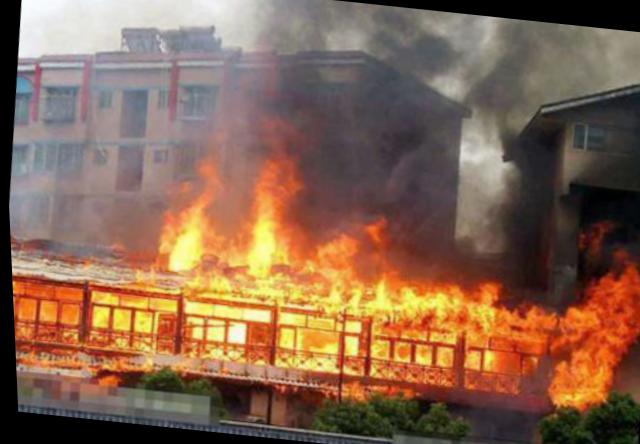fire: (187, 263, 367, 313), (542, 308, 619, 408), (239, 163, 301, 273), (584, 263, 639, 341), (159, 194, 212, 274), (463, 303, 548, 350), (363, 282, 432, 324), (308, 232, 361, 283), (182, 300, 269, 320), (429, 284, 468, 328), (10, 278, 83, 299), (198, 234, 244, 266), (274, 352, 333, 372), (294, 326, 339, 352), (462, 372, 513, 391), (284, 251, 319, 276), (470, 280, 502, 306), (483, 350, 519, 373), (364, 215, 391, 245), (130, 265, 156, 291), (337, 378, 365, 402), (201, 344, 242, 360), (58, 300, 81, 324), (273, 325, 296, 348), (36, 298, 58, 322), (118, 292, 148, 309), (89, 304, 111, 327), (16, 296, 38, 319), (368, 338, 390, 360), (110, 306, 132, 328), (397, 326, 427, 342), (391, 338, 411, 362), (148, 296, 178, 312), (133, 308, 153, 332), (93, 371, 121, 388), (274, 310, 303, 326), (204, 318, 225, 340), (341, 333, 359, 358), (412, 342, 432, 364), (184, 316, 204, 338), (305, 314, 334, 329), (90, 290, 117, 305), (434, 344, 452, 366), (427, 330, 454, 344), (370, 322, 397, 336), (227, 321, 244, 342), (463, 350, 481, 368), (519, 356, 537, 374), (342, 319, 360, 332), (10, 293, 16, 318)
